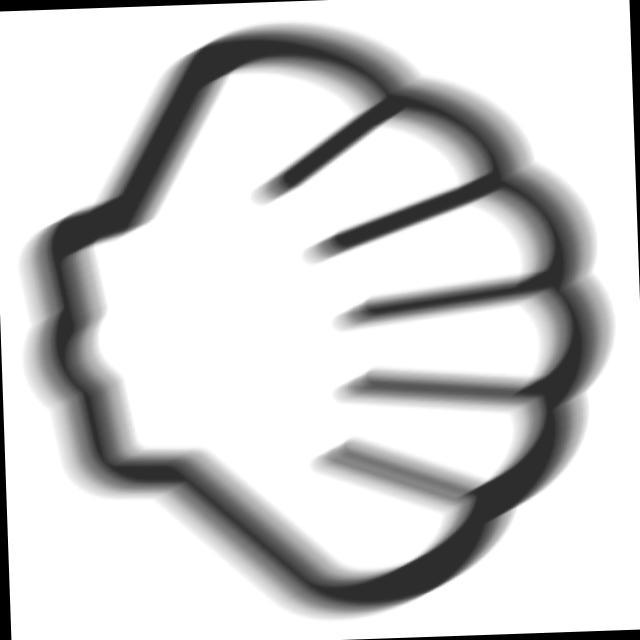shell: (1, 2, 639, 640)
